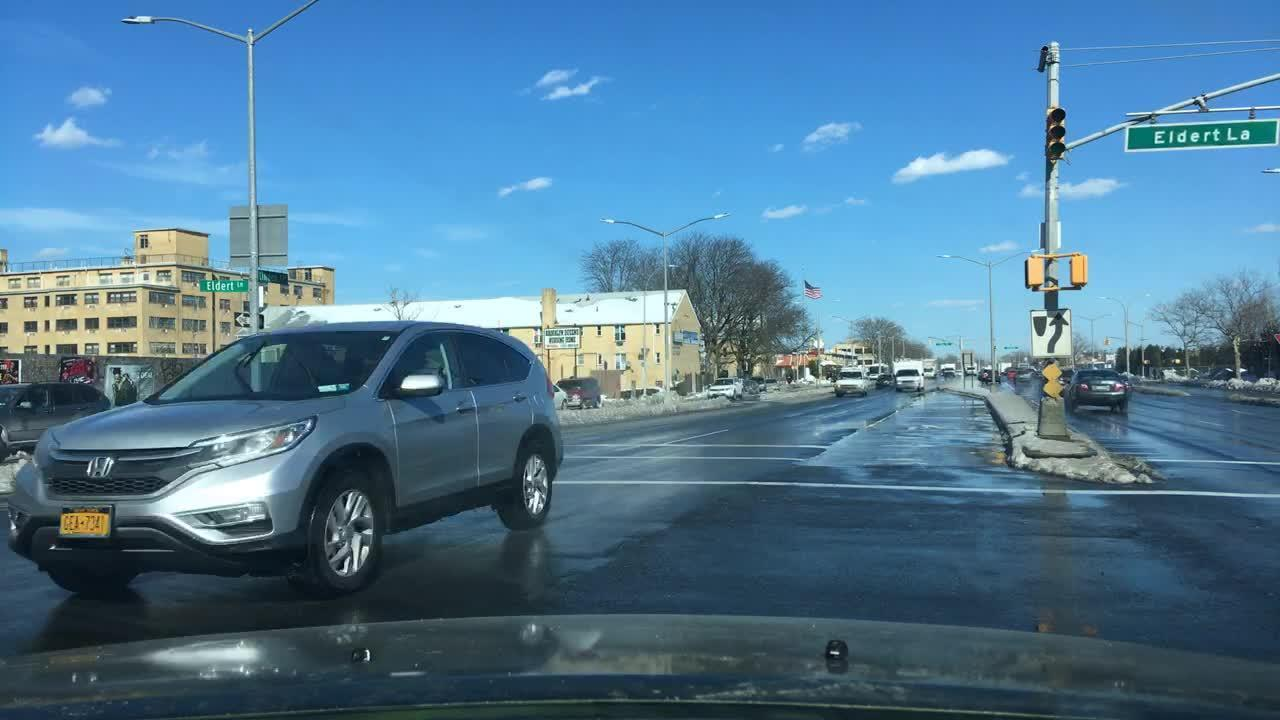Honda: (64, 447, 124, 488)
